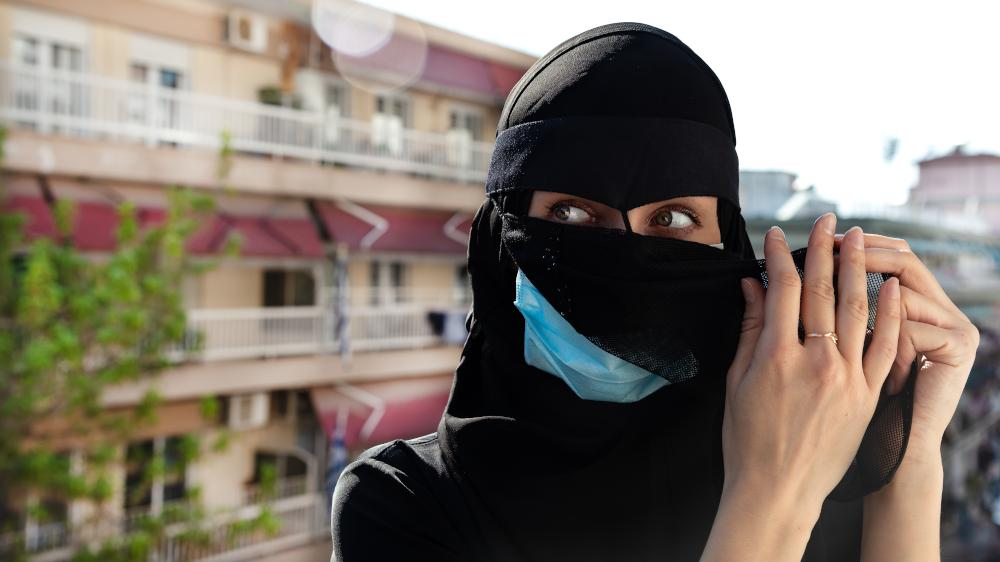Wearing Mask: (485, 0, 769, 433)
